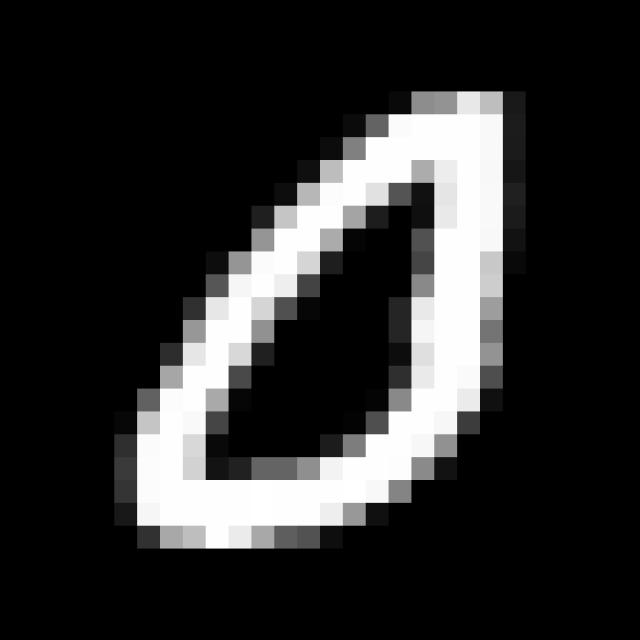zero -0-: (112, 75, 532, 570)
